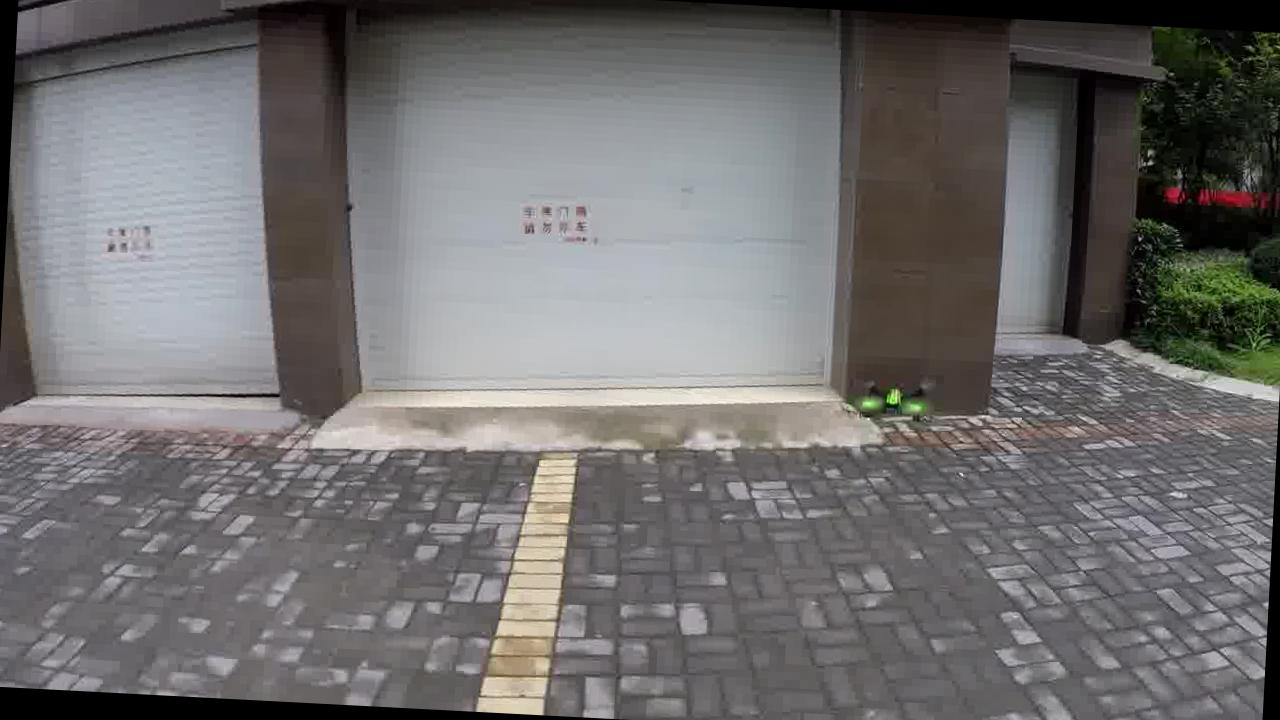drone: (837, 362, 945, 428)
